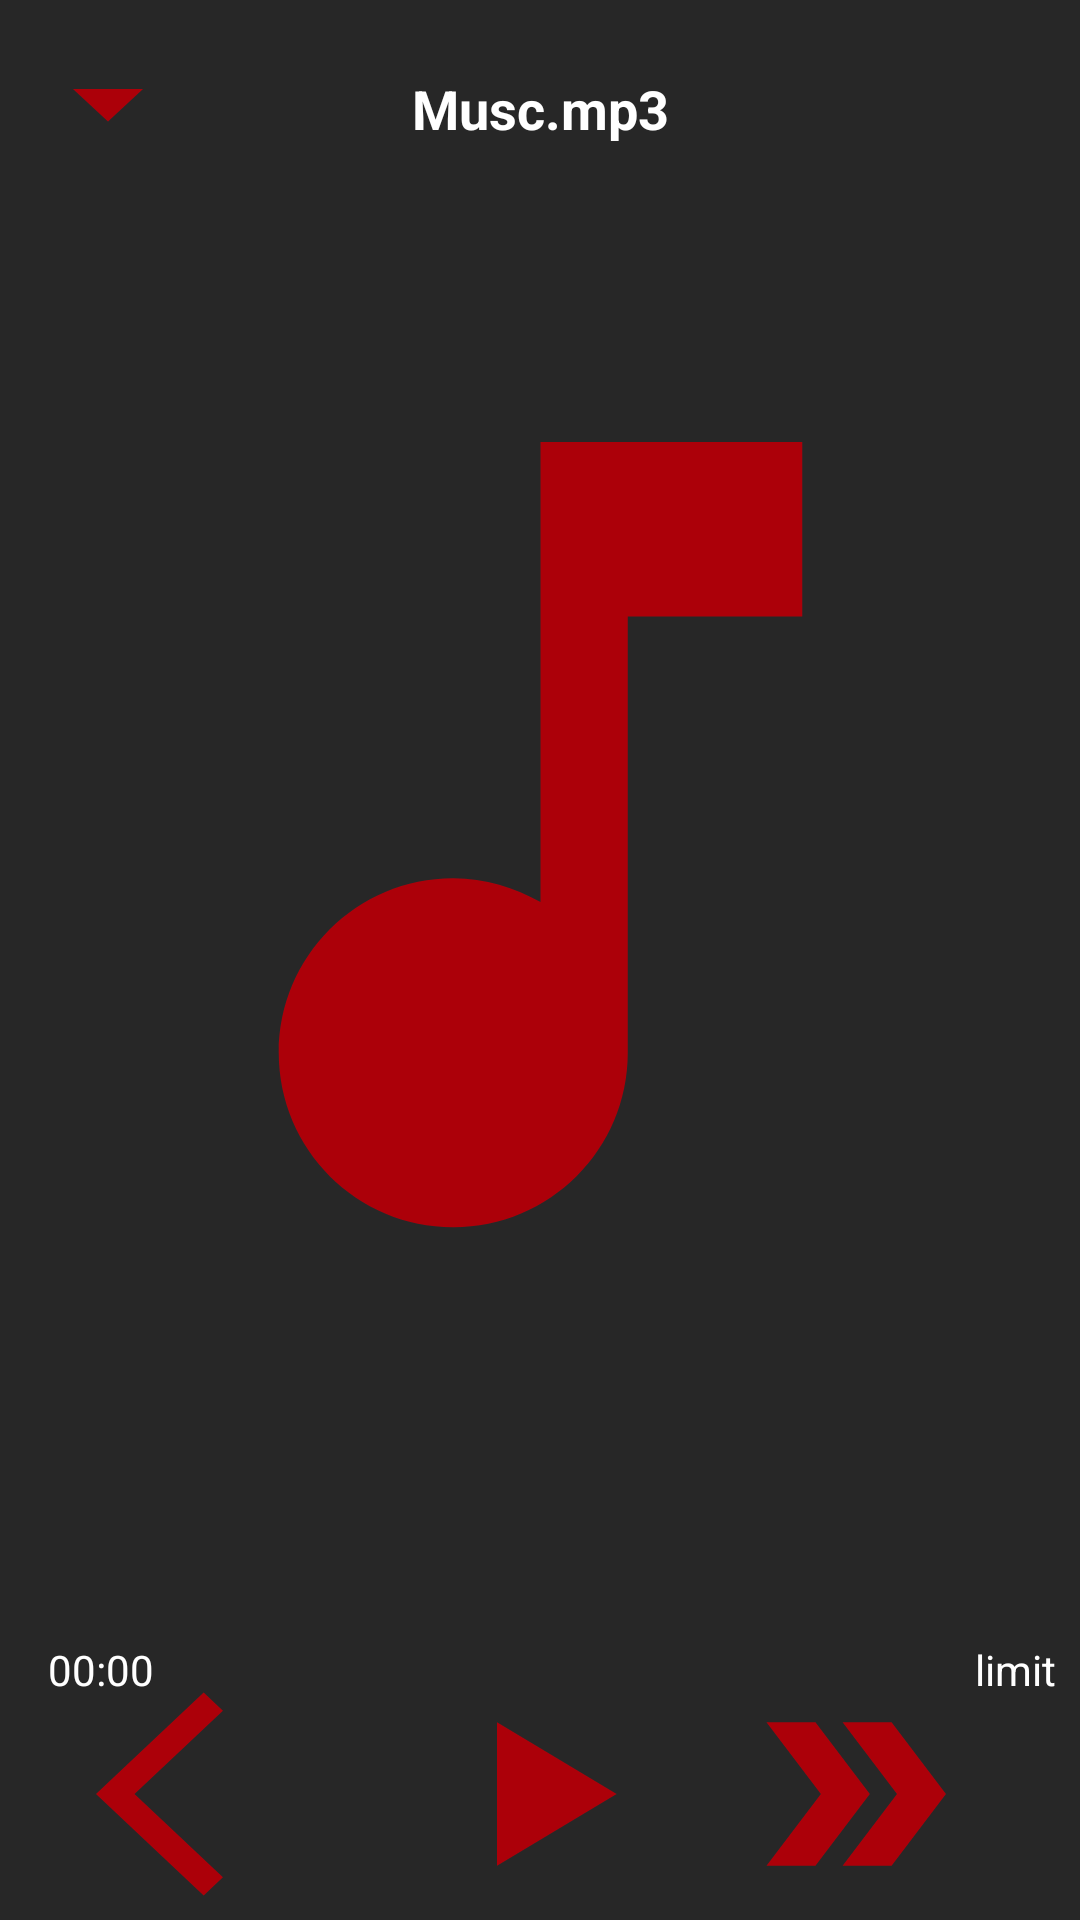

Icons on this 1080×1920 Android screen, each with its box as bbox=[x1, y1, x2, y2]:
arrow back: bbox=[96, 1681, 223, 1896]
arrow drop down: bbox=[73, 89, 143, 121]
double arrow: bbox=[767, 1722, 946, 1866]
play arrow: bbox=[497, 1722, 616, 1866]
